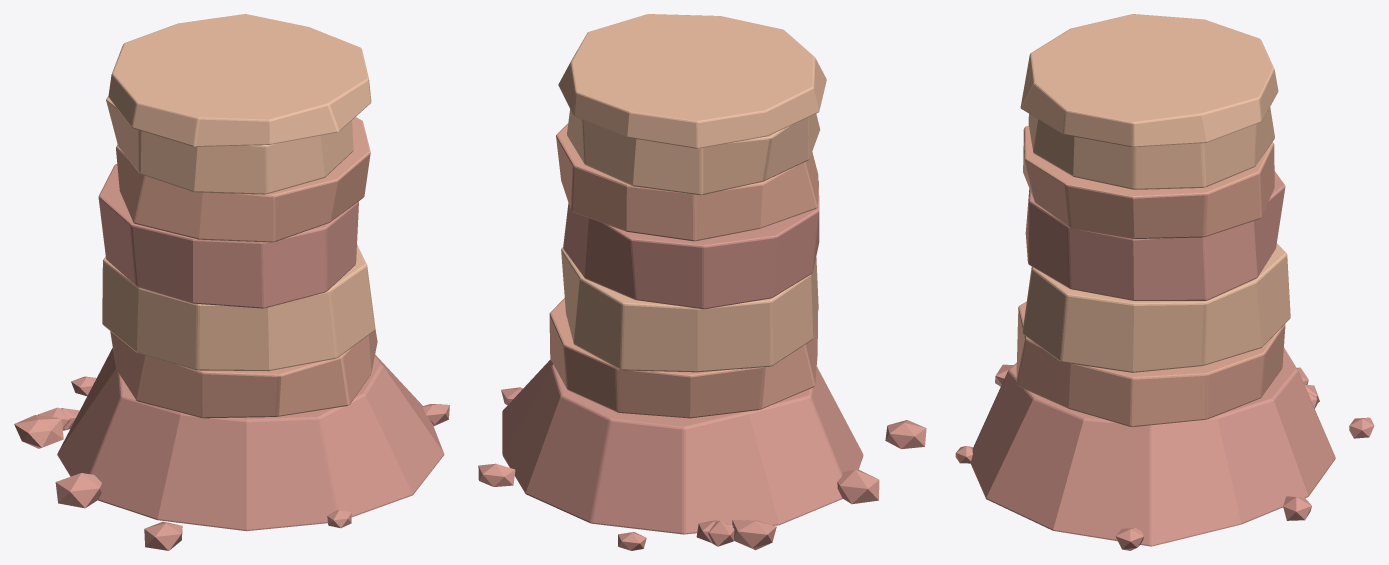
The model's file is mesa_b.glb.
The picture shows the model from 3 angles, left to right: view 1: azimuth 30°, elevation 25°; view 2: azimuth 150°, elevation 25°; view 3: azimuth 270°, elevation 25°; orthographic projection.
Parts seen in each view (by area): view 1: mesa_b_slope, mesa_b_cap, mesa_b_band1, mesa_b_band2, mesa_b_band3, mesa_b_band0, mesa_b_band4, mesa_b_boulders; view 2: mesa_b_slope, mesa_b_cap, mesa_b_band1, mesa_b_band2, mesa_b_band3, mesa_b_band0, mesa_b_band4, mesa_b_boulders; view 3: mesa_b_slope, mesa_b_cap, mesa_b_band1, mesa_b_band2, mesa_b_band0, mesa_b_band3, mesa_b_band4, mesa_b_boulders.
Boxes of the visible parts, x1,y1,x2,y2 form: mesa_b_slope: [57, 348, 444, 531]; mesa_b_cap: [108, 14, 371, 146]; mesa_b_band1: [102, 244, 375, 371]; mesa_b_band2: [98, 164, 358, 308]; mesa_b_band3: [116, 117, 370, 242]; mesa_b_band0: [110, 329, 377, 418]; mesa_b_band4: [106, 96, 353, 194]; mesa_b_boulders: [14, 376, 449, 550]; mesa_b_slope: [502, 359, 863, 534]; mesa_b_cap: [558, 14, 826, 148]; mesa_b_band1: [561, 247, 818, 372]; mesa_b_band2: [563, 180, 819, 309]; mesa_b_band3: [556, 123, 818, 241]; mesa_b_band0: [549, 298, 817, 418]; mesa_b_band4: [567, 109, 820, 195]; mesa_b_boulders: [478, 387, 926, 550]; mesa_b_slope: [970, 348, 1335, 546]; mesa_b_cap: [1020, 14, 1278, 147]; mesa_b_band1: [1022, 243, 1290, 372]; mesa_b_band2: [1025, 171, 1285, 300]; mesa_b_band0: [1016, 301, 1285, 427]; mesa_b_band3: [1023, 125, 1274, 238]; mesa_b_band4: [1028, 107, 1274, 189]; mesa_b_boulders: [955, 364, 1374, 550].
Size of the model in its own units: 21.51 by 21.35 by 20.41.
